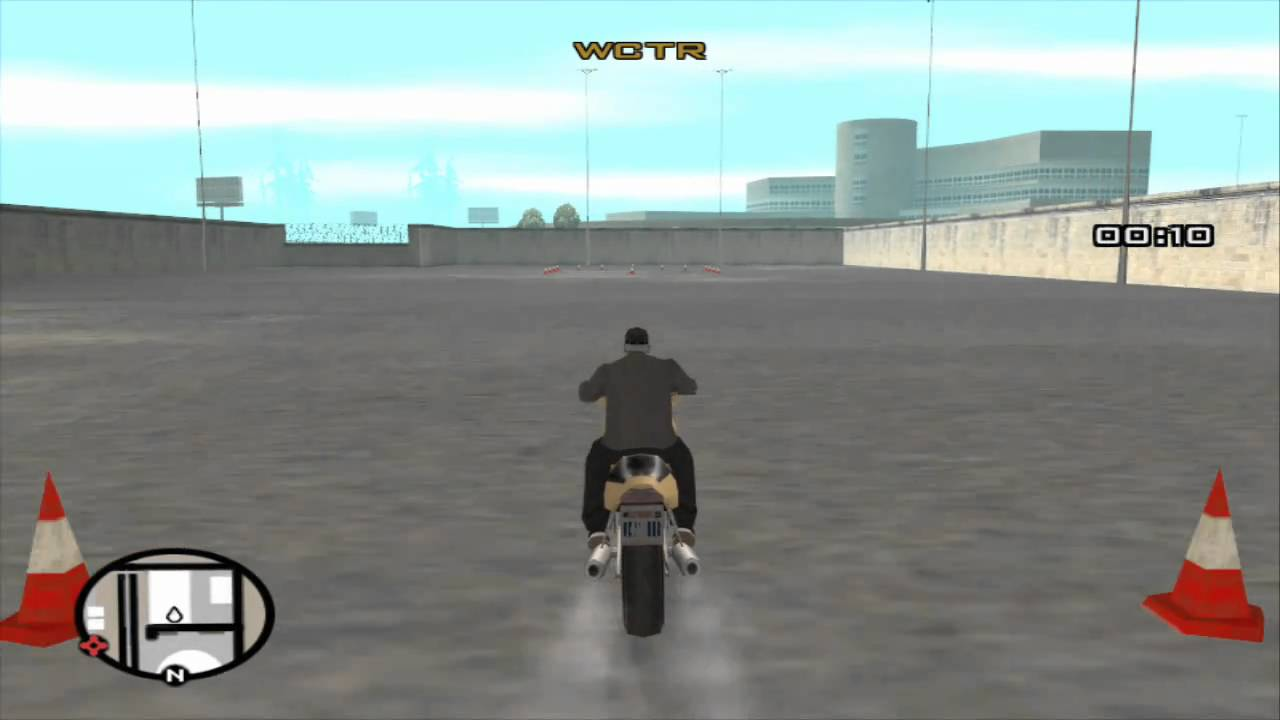bike: (588, 339, 703, 647)
